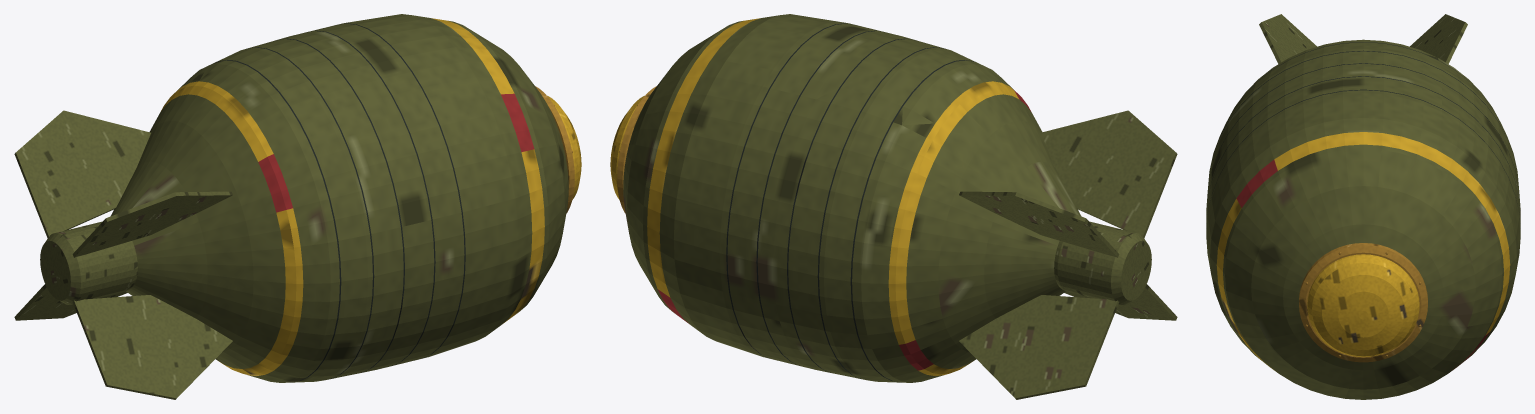
File: bomb.obj
3 renders of one model, left to right at view 1: azimuth 30°, elevation 25°; view 2: azimuth 150°, elevation 25°; view 3: azimuth 270°, elevation 25°, orthographic. The views are drawn at different scales.
Parts seen in each view (by area): view 1: bomb_MaterialGroup_03, bomb_MaterialGroup_02, bomb_MaterialGroup_01, bomb_MaterialGroup_00; view 2: bomb_MaterialGroup_03, bomb_MaterialGroup_02, bomb_MaterialGroup_01, bomb_MaterialGroup_00; view 3: bomb_MaterialGroup_03, bomb_MaterialGroup_00, bomb_MaterialGroup_01, bomb_MaterialGroup_02.
Part boxes in pixels (left/top/right/bottom): bomb_MaterialGroup_03: left=110, top=14, right=568, bottom=382; bomb_MaterialGroup_02: left=14, top=110, right=232, bottom=399; bomb_MaterialGroup_01: left=535, top=86, right=574, bottom=213; bomb_MaterialGroup_00: left=547, top=95, right=581, bottom=199; bomb_MaterialGroup_03: left=623, top=14, right=1081, bottom=382; bomb_MaterialGroup_02: left=959, top=110, right=1177, bottom=399; bomb_MaterialGroup_01: left=617, top=86, right=656, bottom=213; bomb_MaterialGroup_00: left=610, top=95, right=644, bottom=199; bomb_MaterialGroup_03: left=1206, top=39, right=1520, bottom=399; bomb_MaterialGroup_00: left=1307, top=254, right=1419, bottom=357; bomb_MaterialGroup_01: left=1299, top=243, right=1427, bottom=362; bomb_MaterialGroup_02: left=1259, top=14, right=1467, bottom=63.
Size of the model in its own units: 2.87 by 1.68 by 1.68.
Materials: 5 (5 with a texture image).
